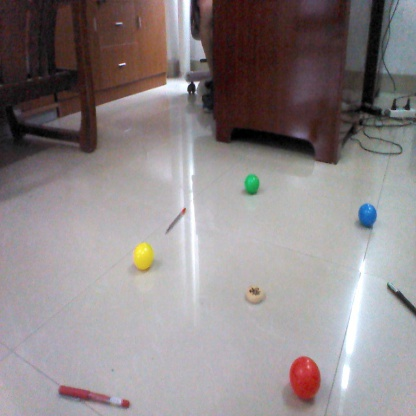ball: (287, 357, 320, 400), (134, 243, 157, 271), (356, 200, 381, 224), (242, 174, 266, 192)
chess: (246, 285, 267, 303)
pen: (58, 385, 130, 407), (383, 281, 416, 313), (165, 206, 191, 232)
